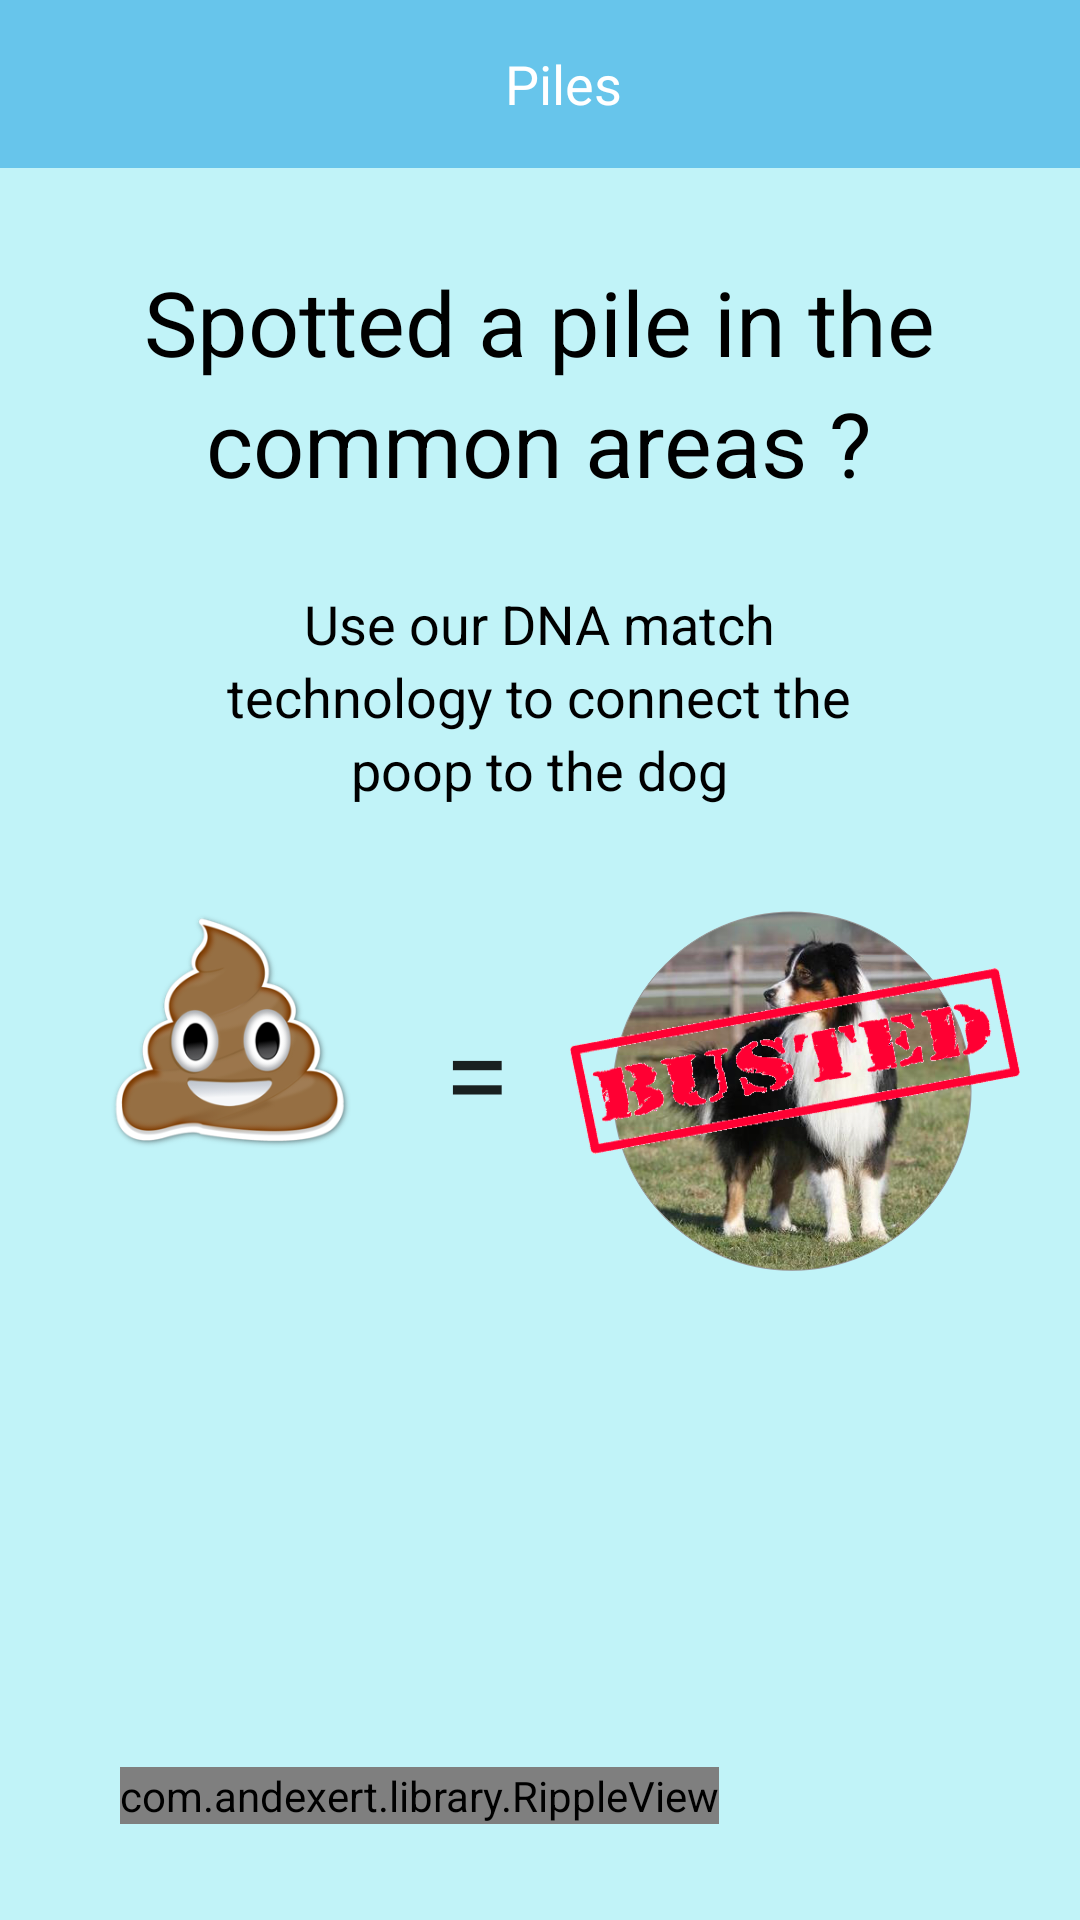

Point at icon controls on the screen. Image size 1080 × 1920, points as point (x, y).
poop piles: point (231, 1031)
